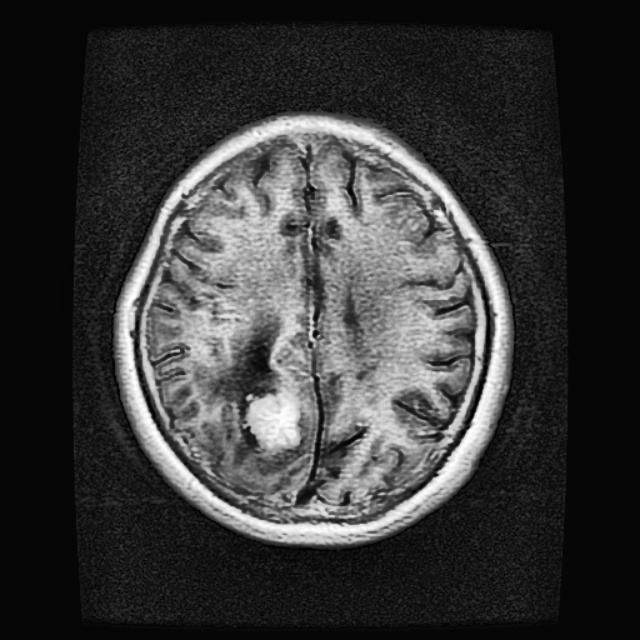Pituitary: (247, 390, 299, 449)
